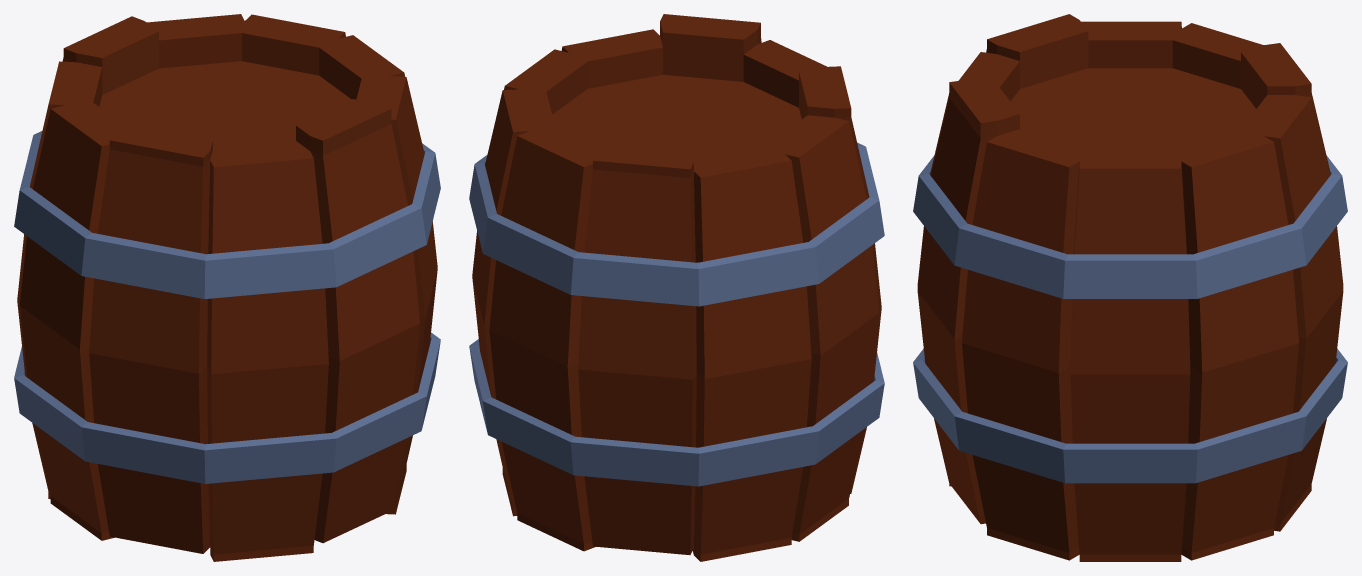
The model's file is barrel.obj.
3 views of the same model, side by side, from view 1: azimuth 30°, elevation 25°; view 2: azimuth 150°, elevation 25°; view 3: azimuth 270°, elevation 25° (orthographic). The views are drawn at different scales.
Parts seen in each view (by area): view 1: barrel; view 2: barrel; view 3: barrel.
Boxes of the visible parts, x1=… form: barrel: x1=14, y1=14, x2=440, y2=561; barrel: x1=469, y1=14, x2=884, y2=561; barrel: x1=913, y1=14, x2=1347, y2=561.
Bounding box in the file's own units: 1.38 × 1.51 × 1.45.
